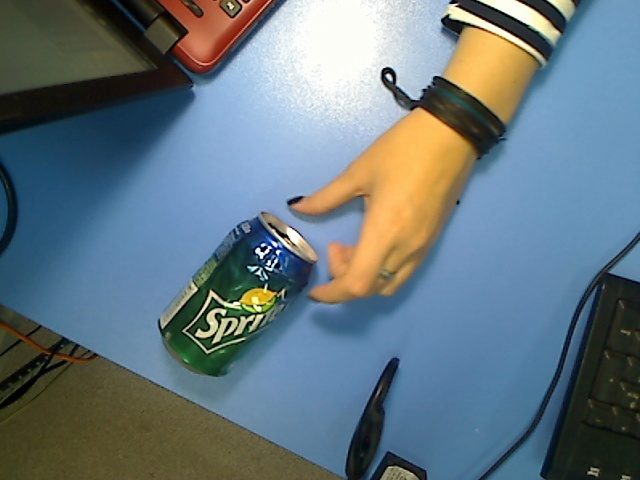can: (157, 211, 319, 378)
